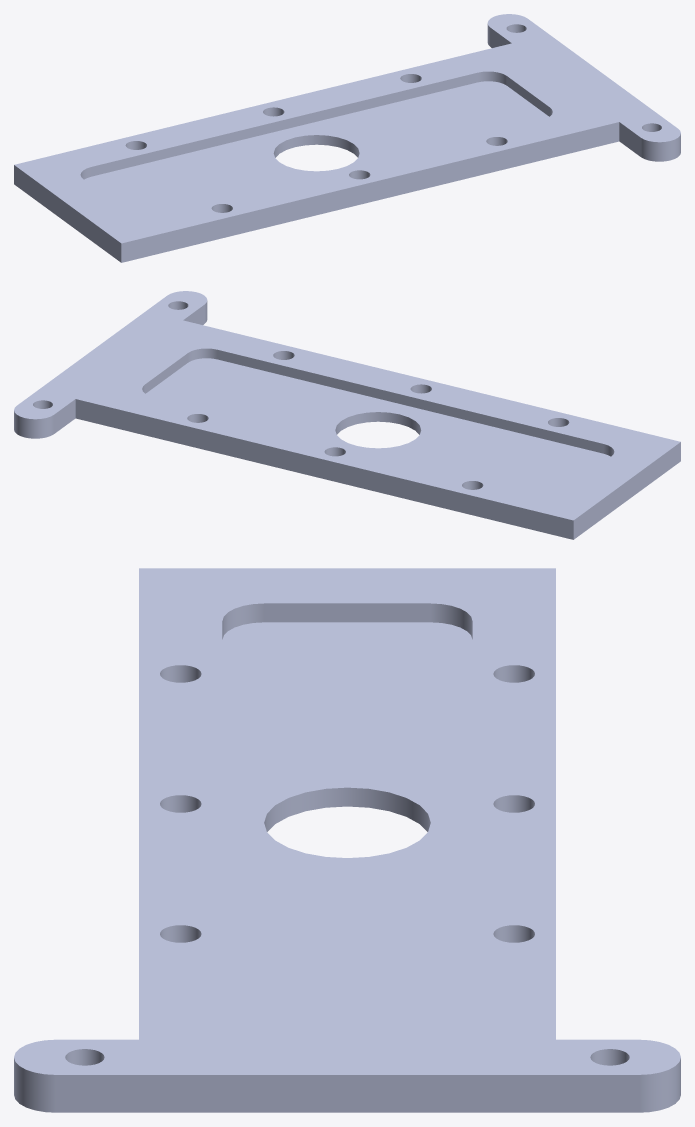
Rendered from Top.dae.
3 renders of one model, top to bottom at view 1: azimuth 30°, elevation 25°; view 2: azimuth 150°, elevation 25°; view 3: azimuth 270°, elevation 25°, orthographic. The views are drawn at different scales.
Visible parts, largest first — view 1: Actor0; view 2: Actor0; view 3: Actor0.
Boxes of the visible parts, box(x1,y1,x2,y2) form: Actor0: box(14, 14, 680, 262); Actor0: box(14, 291, 680, 539); Actor0: box(14, 568, 680, 1112).
Bounding box in the file's own units: 0.1826 × 0.00635 × 0.1016.
